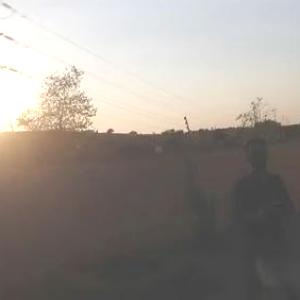follow: (221, 132, 299, 299)
